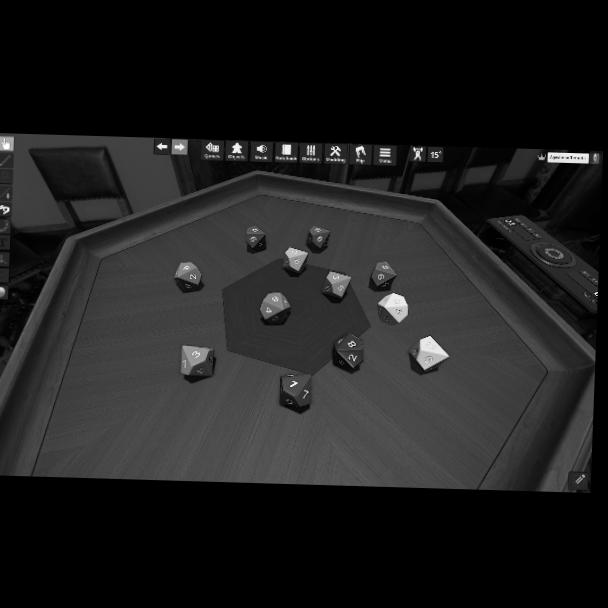d10: (409, 335, 446, 371), (279, 373, 310, 409), (181, 345, 214, 377), (333, 335, 362, 371), (260, 292, 291, 325), (174, 261, 204, 293), (378, 292, 406, 324), (322, 271, 350, 300), (282, 248, 307, 274), (371, 262, 395, 289), (306, 226, 329, 251), (246, 225, 265, 251)
